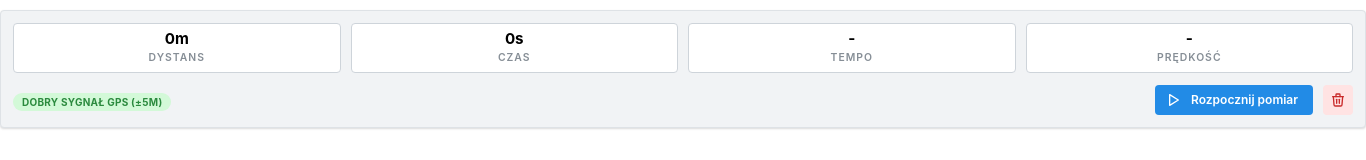
GpsDistanceRecorderPanel › starts, pauses, resumes and finishes a GPS recording with measured points and session times
Later steps or results of the test are not shown.
Expected: the text "Dobry sygnał GPS (±5m)" is shown, [22,94,162,110]
Click the button "Rozpocznij pomiar".
click(1234, 100)  # box [1155,85,1313,115]
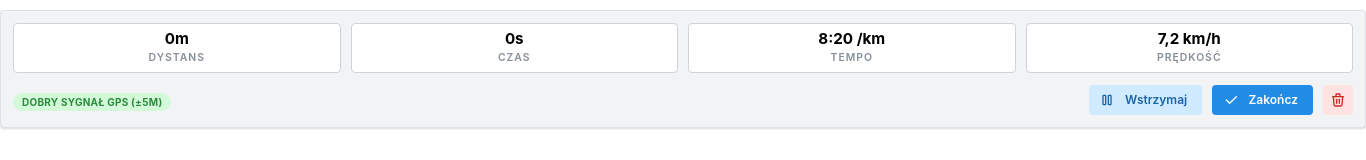
Result: the button "Wstrzymaj" is shown
Click the button "Wstrzymaj".
click(1145, 100)  # box [1089,85,1202,115]
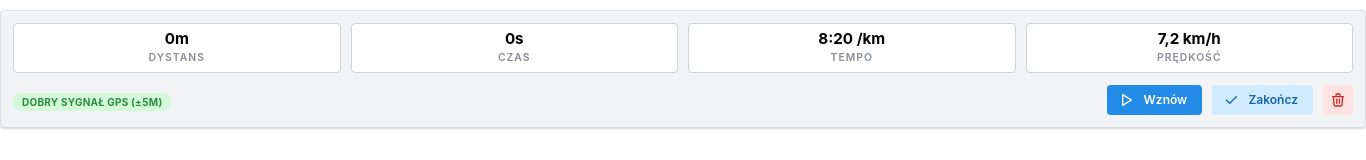
Result: the button "Wznów" is shown
Click the button "Wznów".
click(1155, 100)  # box [1107,85,1202,115]
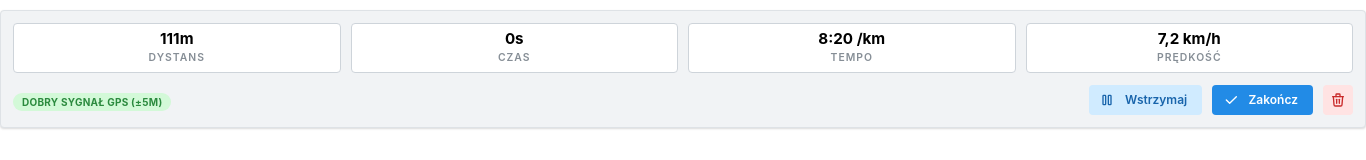
Expected: the text "0m" is shown, [160,29,194,48]
Result: the button "Wstrzymaj" is shown at [1089,85,1202,115]
